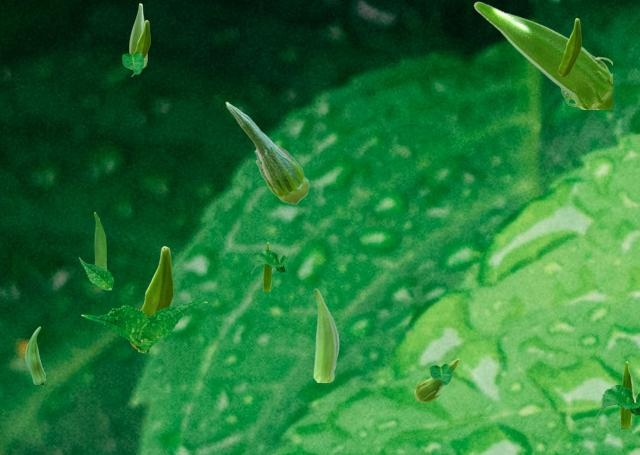okra: (473, 1, 611, 108), (225, 101, 308, 203), (130, 246, 172, 348), (313, 288, 338, 381), (414, 358, 458, 401), (558, 18, 580, 75), (128, 3, 146, 69), (25, 326, 44, 383), (620, 361, 632, 427), (94, 212, 105, 267), (134, 20, 149, 59), (263, 242, 271, 290)
